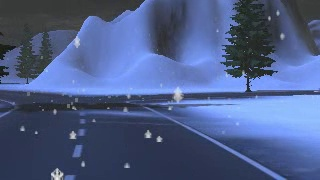Lane: (0, 90, 313, 179)
